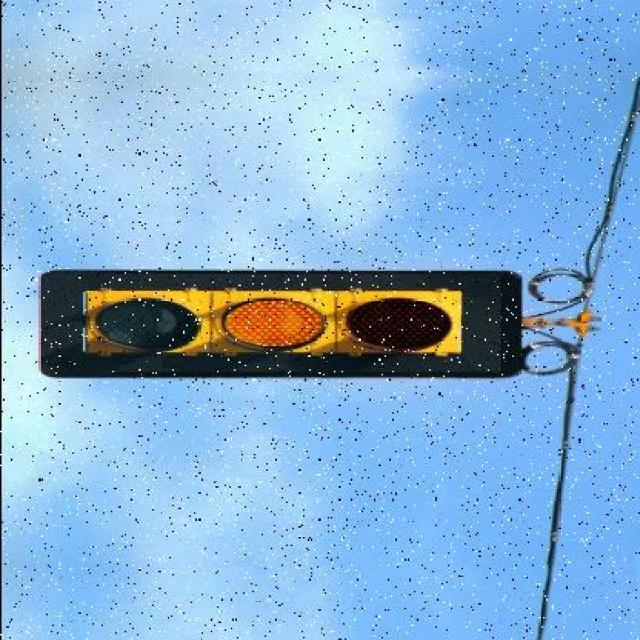yellow-light: (38, 252, 530, 396)
